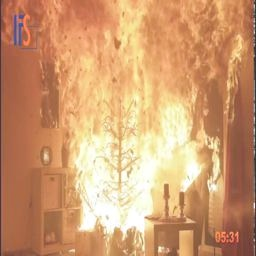fire: (1, 0, 256, 223)
